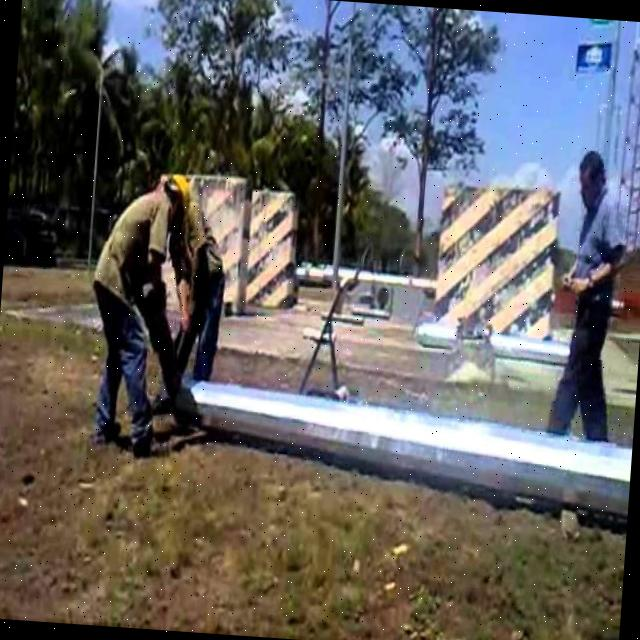Broken Pole: (187, 376, 632, 520)
